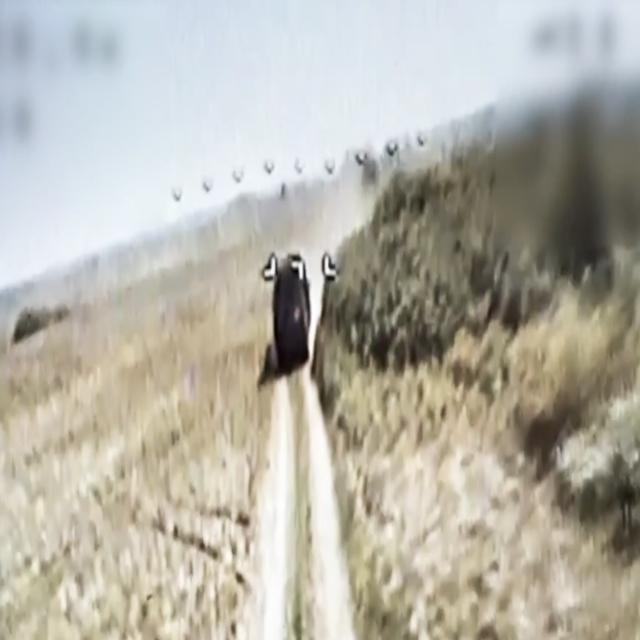vehicle: (272, 254, 312, 368)
